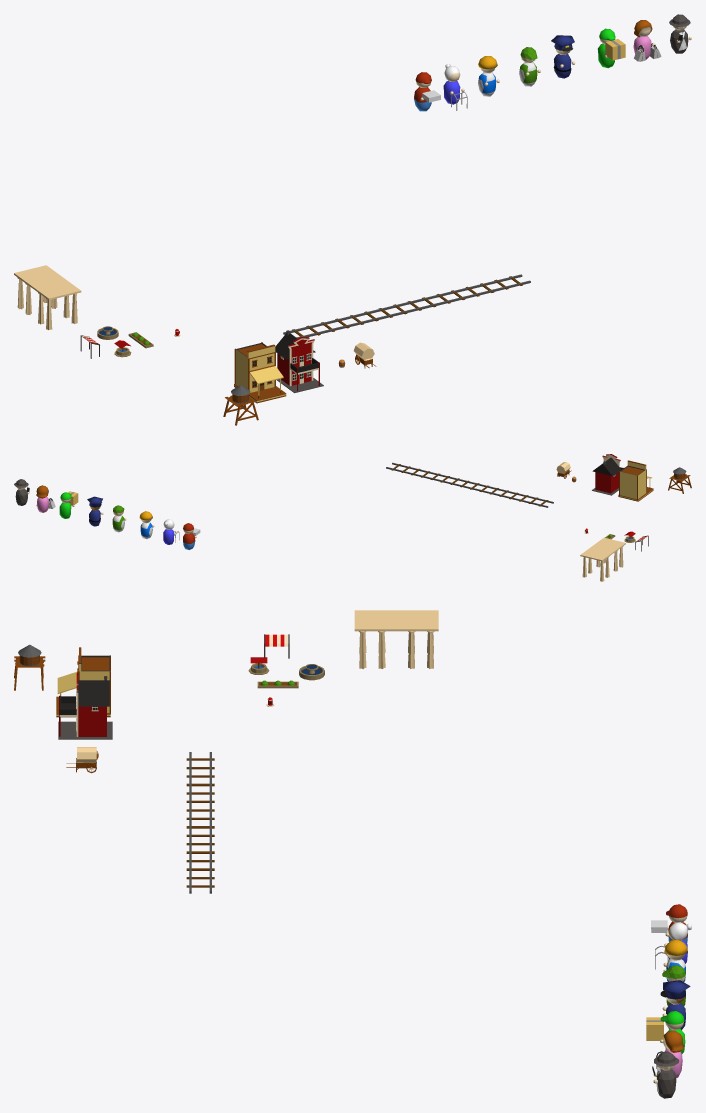
The model's file is building2.fbx.
The picture shows the model from 3 angles, top to bottom: view 1: azimuth 30°, elevation 25°; view 2: azimuth 150°, elevation 25°; view 3: azimuth 270°, elevation 25°; orthographic projection. The views are drawn at different scales.
Visible parts, largest first — view 1: Cube.026, Plane.003, Plane, Cube.024, Cube.036; view 2: Cube.026, Plane.003, Cube.024, Plane, Cube.036; view 3: Cube.026, Plane, Cube.024, Plane.003.
Boxes of the visible parts, <box> form: Cube.026: <box>14,265,81,329</box>; Plane.003: <box>234,342,286,403</box>; Plane: <box>275,330,323,393</box>; Cube.024: <box>283,274,530,338</box>; Cube.036: <box>223,385,258,425</box>; Cube.026: <box>580,537,625,581</box>; Plane.003: <box>618,460,653,501</box>; Cube.024: <box>386,462,553,507</box>; Plane: <box>592,454,623,495</box>; Cube.036: <box>668,467,691,493</box>; Cube.026: <box>354,610,438,669</box>; Plane: <box>58,673,112,739</box>; Cube.024: <box>186,752,214,893</box>; Plane.003: <box>56,647,110,717</box>.
Bounding box in the file's own units: 4980 × 293 × 3164.
Materials: 4 (4 with a texture image).
